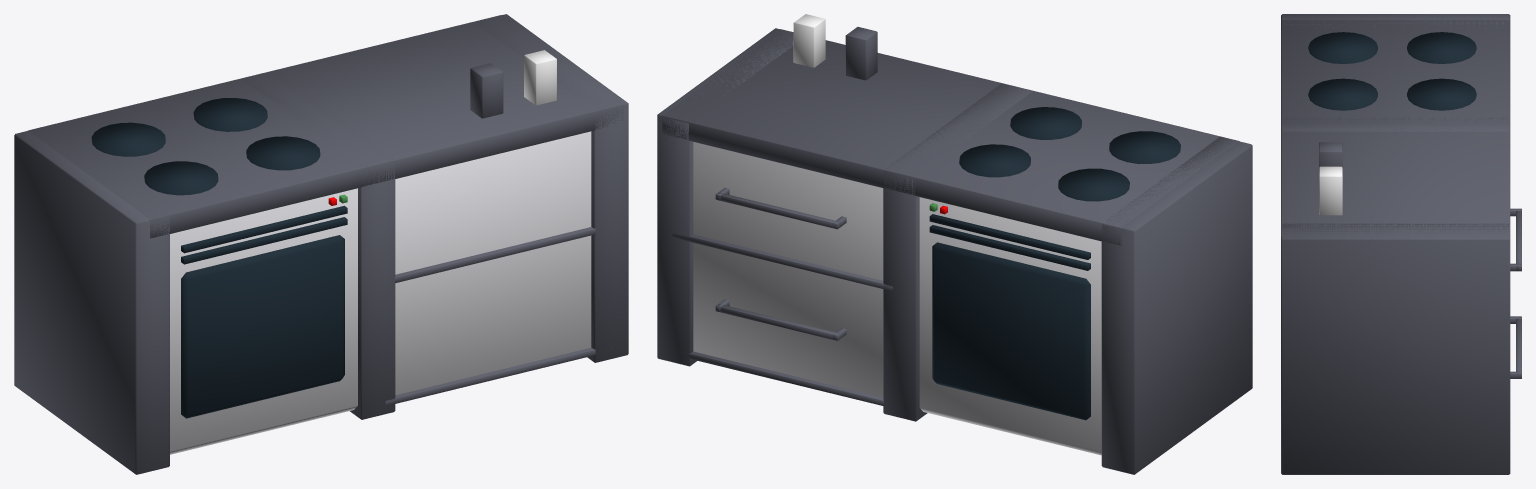
Rendered from Prop_KitchenSet.glb.
3 renders of one model, left to right at view 1: azimuth 30°, elevation 25°; view 2: azimuth 150°, elevation 25°; view 3: azimuth 270°, elevation 25°, orthographic. The views are drawn at different scales.
Visible parts, largest first — view 1: Prop_KitchenSet; view 2: Prop_KitchenSet; view 3: Prop_KitchenSet.
Part boxes in pixels (x1,y1,x2,y2): Prop_KitchenSet: (14,14,628,474); Prop_KitchenSet: (657,14,1252,474); Prop_KitchenSet: (1281,14,1521,474).
Size of the model in its own units: 2.58 by 1.47 by 1.16.
